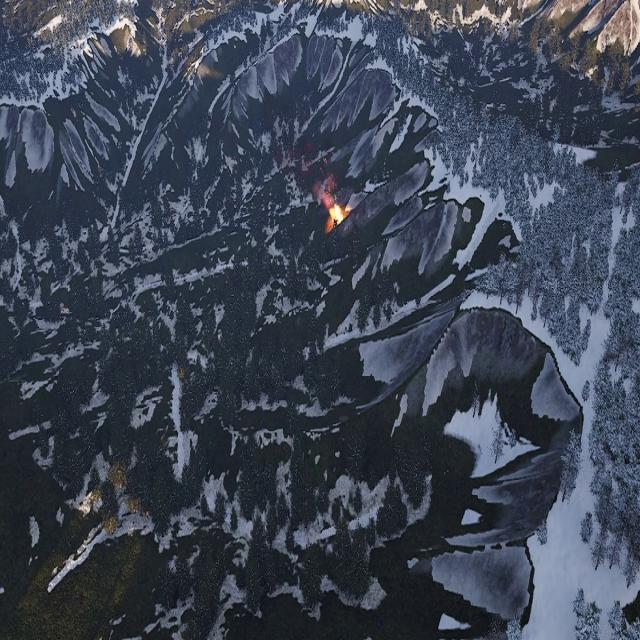fire: (326, 204, 346, 232)
smoke: (296, 139, 340, 210)
